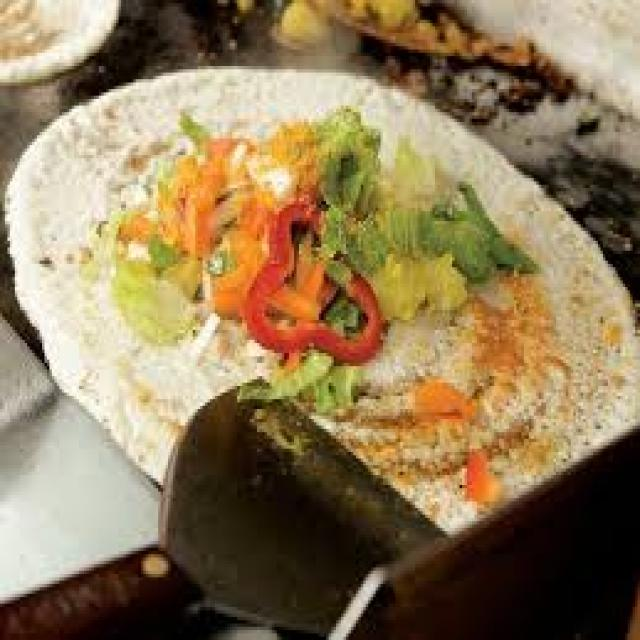DOSA: (3, 57, 638, 543)
